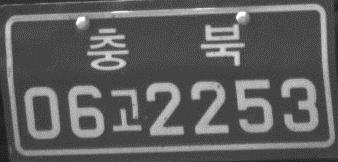0: (22, 83, 62, 141)
2: (186, 78, 230, 138), (145, 81, 187, 137)
3: (279, 77, 320, 132)
5: (232, 77, 275, 135)
6: (66, 82, 106, 141)
고: (109, 87, 144, 133)
충북_D: (86, 18, 245, 74)
